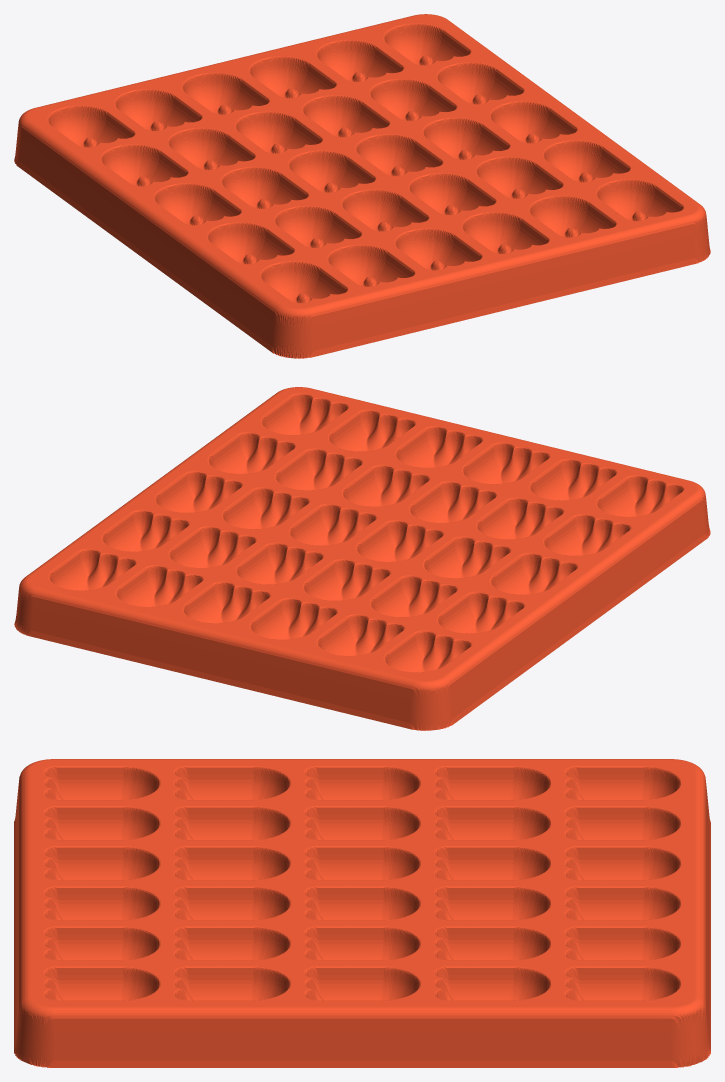
File: mold.glb
The picture shows the model from 3 angles, top to bottom: view 1: azimuth 30°, elevation 25°; view 2: azimuth 150°, elevation 25°; view 3: azimuth 270°, elevation 25°; orthographic projection. The views are drawn at different scales.
Visible parts, largest first — view 1: geometry_0; view 2: geometry_0; view 3: geometry_0.
Boxes of the visible parts, x1,y1,x2,y2 form: geometry_0: (14, 14, 710, 358); geometry_0: (14, 387, 710, 730); geometry_0: (14, 759, 710, 1067).
Size of the model in its own units: 0.1397 by 0.0136 by 0.1581.
